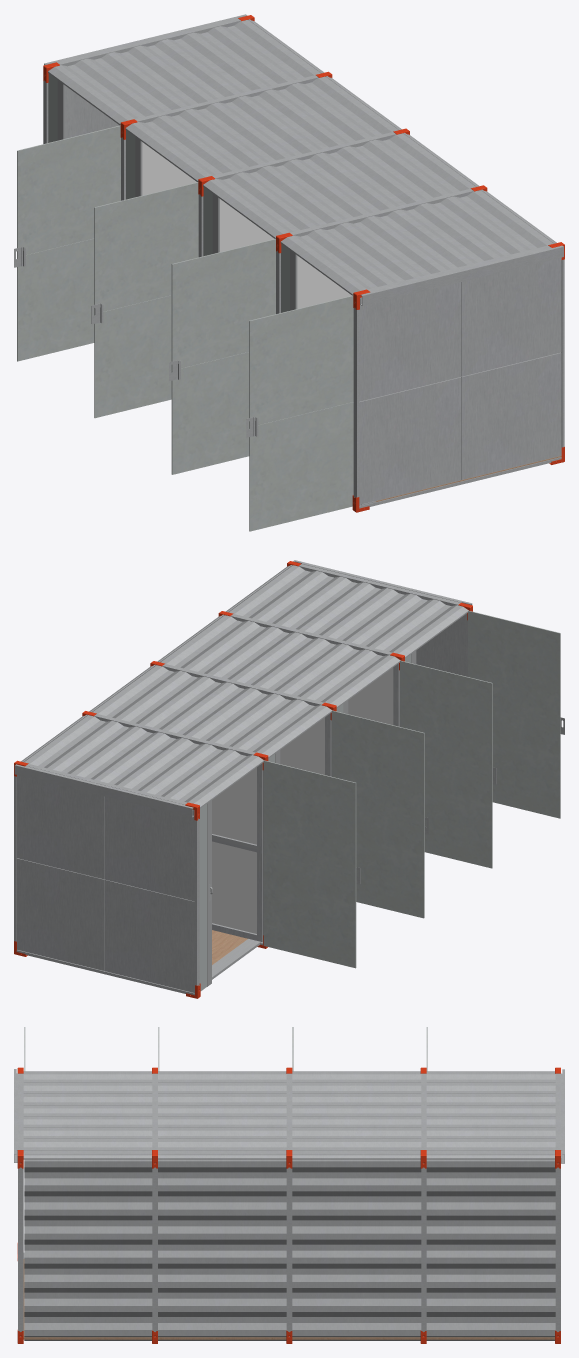
File: 12S4_opened.glb
3 views of the same model, one above another, from view 1: azimuth 30°, elevation 25°; view 2: azimuth 150°, elevation 25°; view 3: azimuth 270°, elevation 25° (orthographic). The views are drawn at different scales.
Parts seen in each view (by area): view 1: rightSideOfDoors, celing, Cube.001, frontRim, Wall, gutter, Cube, corners, back; view 2: rightSideOfDoors, celing, Cube, Wall, frontRim, gutter.001, Cube.001, corners, floor.002, floor.001, back; view 3: back, celing, frontRim, floor.002, corners.
Part boxes in pixels (x1=…): rightSideOfDoors: x1=14, y1=74, x2=353, y2=531; celing: x1=48, y1=20, x2=556, y2=295; Cube.001: x1=359, y1=257, x2=561, y2=505; frontRim: x1=43, y1=18, x2=564, y2=508; Wall: x1=142, y1=142, x2=351, y2=308; gutter: x1=360, y1=245, x2=563, y2=305; Cube: x1=65, y1=85, x2=119, y2=138; corners: x1=43, y1=15, x2=564, y2=512; back: x1=248, y1=19, x2=555, y2=243; rightSideOfDoors: x1=199, y1=610, x2=564, y2=990; celing: x1=21, y1=565, x2=468, y2=808; Cube: x1=16, y1=775, x2=194, y2=992; Wall: x1=212, y1=663, x2=399, y2=941; frontRim: x1=14, y1=564, x2=460, y2=995; gutter.001: x1=14, y1=764, x2=194, y2=817; Cube.001: x1=416, y1=613, x2=467, y2=676; corners: x1=14, y1=561, x2=472, y2=998; floor.002: x1=212, y1=930, x2=247, y2=964; floor.001: x1=212, y1=939, x2=261, y2=979; back: x1=22, y1=565, x2=292, y2=762; back: x1=24, y1=1153, x2=555, y2=1340; celing: x1=23, y1=1071, x2=555, y2=1159; frontRim: x1=18, y1=1073, x2=560, y2=1336; floor.002: x1=23, y1=1259, x2=554, y2=1339; corners: x1=17, y1=1067, x2=560, y2=1343.
Size of the model in its own units: 35 by 23.06 by 61.09.
8 materials, 7 textured.
